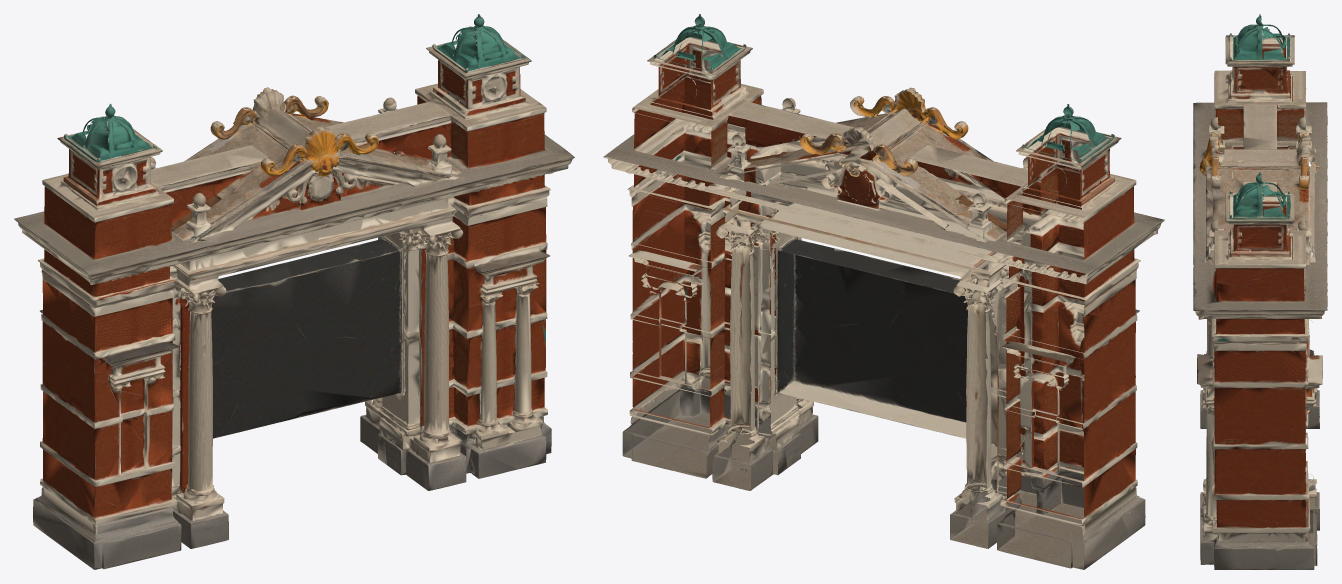
File: bank_gate.glb
The picture shows the model from 3 angles, left to right: view 1: azimuth 30°, elevation 25°; view 2: azimuth 150°, elevation 25°; view 3: azimuth 270°, elevation 25°; orthographic projection. The views are drawn at different scales.
Size of the model in its own units: 1.9 by 1.62 by 0.5201.
1 material, 1 textured.
